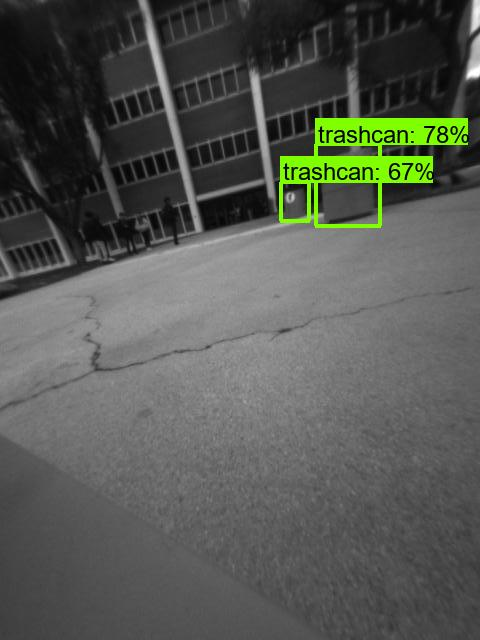trashcan: (317, 145, 378, 223), (279, 182, 310, 219)
